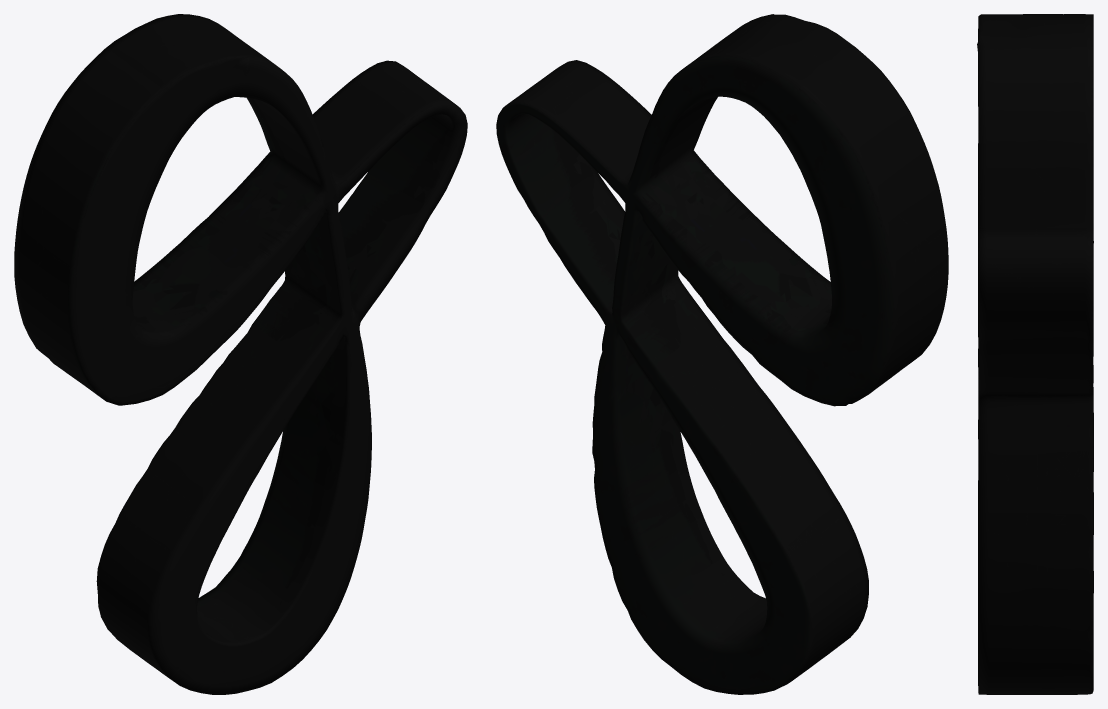
File: elegant_g.glb
3 views of the same model, side by side, from view 1: azimuth 30°, elevation 25°; view 2: azimuth 150°, elevation 25°; view 3: azimuth 270°, elevation 25° (orthographic).
Size of the model in its own units: 1.29 by 1.99 by 0.3264.
1 material, 1 textured.
